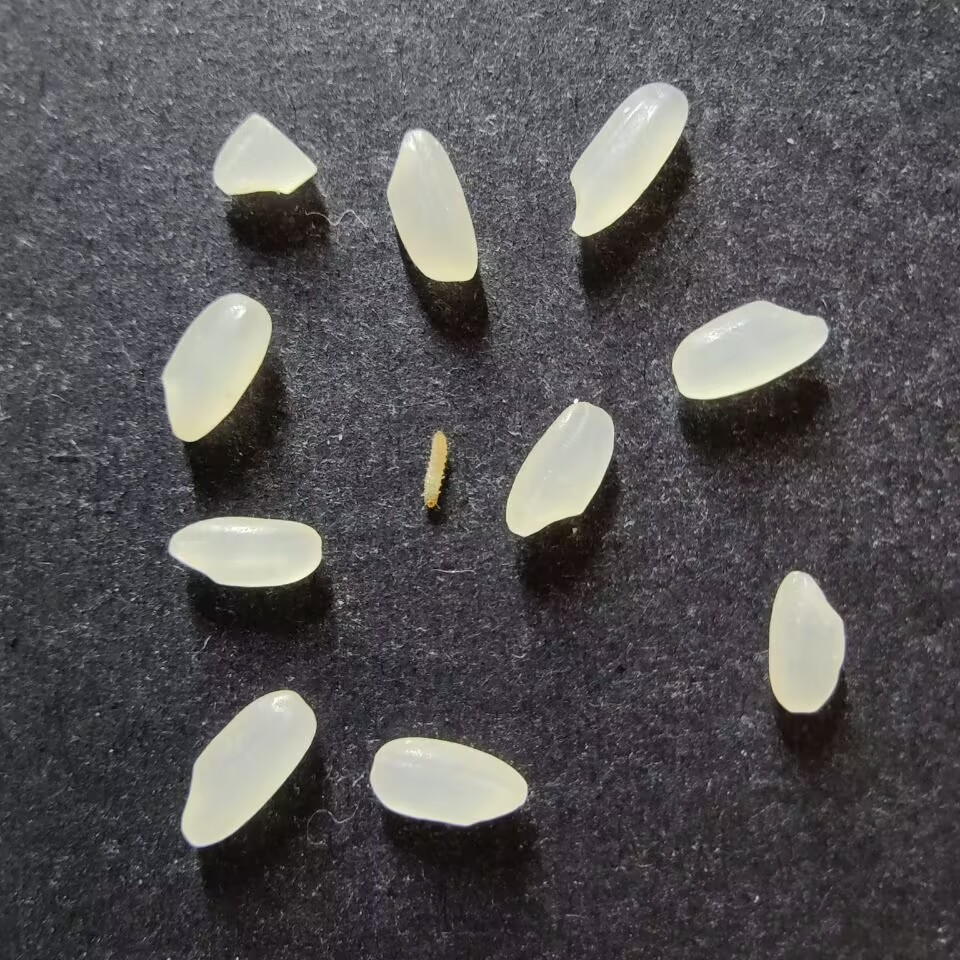others: (419, 428, 449, 511)
rice: (180, 688, 317, 846), (568, 82, 688, 237), (162, 292, 272, 442), (671, 300, 828, 399), (504, 400, 614, 537), (369, 736, 528, 827), (386, 129, 478, 283), (167, 516, 322, 588), (767, 570, 844, 713)
